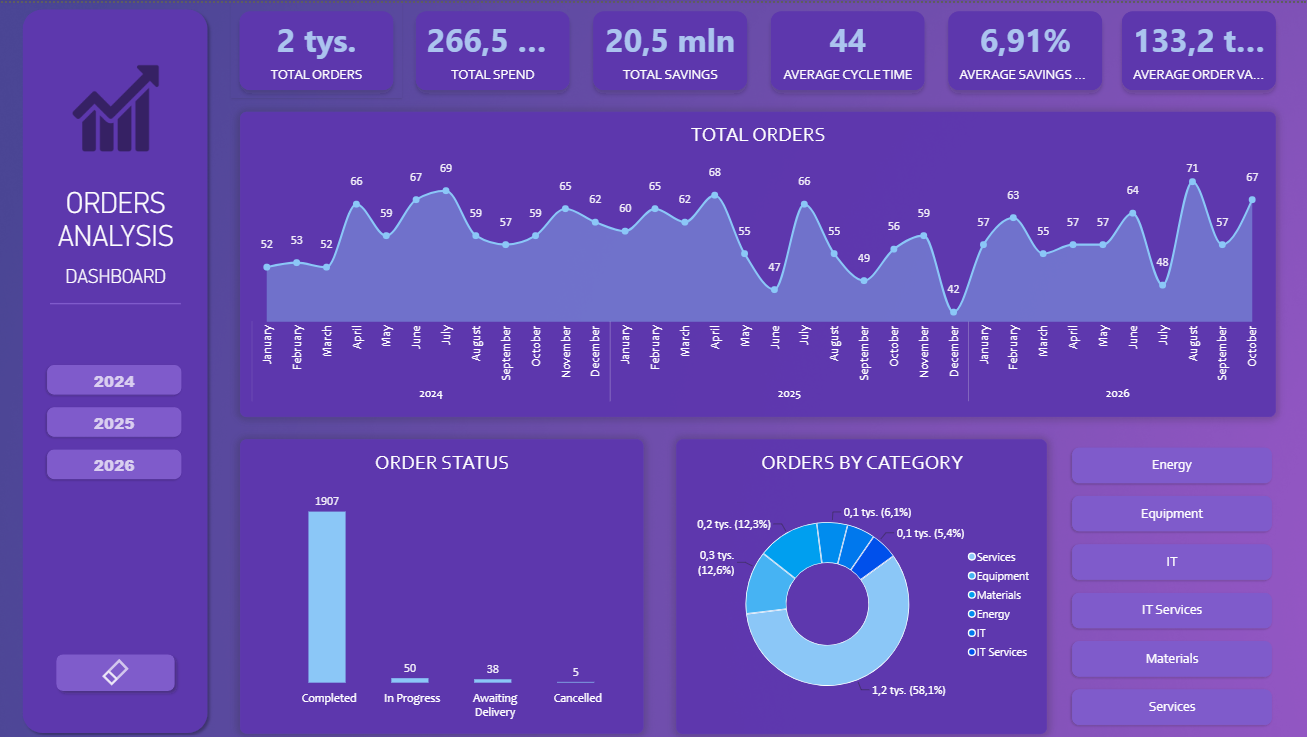

Layout of this report page (visuals, bound fields, positions):
{"tool":"powerbi","page":{"name":"Executive Overview","canvas":[1920,1080],"ordinal":0},"visuals":[{"type":"shape","box":[24,0,289.8,1080.4],"z":0},{"type":"cardVisual","fields":{"Data":["Buyers.Total orders"]},"box":[338.6,0,250,140],"z":1000},{"type":"cardVisual","fields":{"Data":["Buyers.Total spend"]},"box":[598.6,0,250,140],"z":2000},{"type":"cardVisual","fields":{"Data":["Buyers.Total savings"]},"box":[858.6,0,250,140],"z":3000},{"type":"cardVisual","fields":{"Data":["Buyers.Average order value"]},"box":[1634.6,0,250,140],"z":4000},{"type":"cardVisual","fields":{"Data":["Buyers.Average savings rate"]},"box":[1378.6,0,250,140],"z":5000},{"type":"cardVisual","fields":{"Data":["Buyers.Average cycle time"]},"box":[1118.6,0,250,140],"z":6000},{"type":"areaChart","title":"TOTAL ORDERS","fields":{"Category":["Calendar.Year","Calendar.Month Name"],"Y":["Buyers.Total orders"]},"box":[352,160,1520,448],"z":7000},{"type":"columnChart","title":"ORDER STATUS","fields":{"Category":["Orders.Order_Status"],"Y":["Buyers.Total orders"]},"box":[352,640,592,432],"z":8000},{"type":"donutChart","title":"ORDERS BY CATEGORY","fields":{"Category":["Categories.Category_Group"],"Y":["Buyers.Total orders"]},"box":[992,640,544,433],"z":9000},{"type":"advancedSlicerVisual","fields":{"Values":["Categories.Category_Group"]},"box":[1552,632,336,448],"z":10000},{"type":"textbox","box":[26,249.7,288,240],"z":11000},{"type":"image","box":[26,81.7,288,144],"z":12000},{"type":"advancedSlicerVisual","fields":{"Values":["Calendar.Year"]},"box":[48,512,240,208],"z":13000},{"type":"actionButton","title":"RESET FILTERS","box":[74,945.7,192,72],"z":13001},{"type":"shape","box":[74,297.7,192,288],"z":13002}]}

Visuals, with their boxes in screenshot pixels (x1, y1, x2, y2), scaled from the page's 1920x1080 canvas onto the 1307x737 screenshot:
shape: 16,0,214,736
cardVisual - Buyers.Total orders: 230,0,401,96
cardVisual - Buyers.Total spend: 407,0,578,96
cardVisual - Buyers.Total savings: 584,0,755,96
cardVisual - Buyers.Average order value: 1113,0,1283,96
cardVisual - Buyers.Average savings rate: 938,0,1109,96
cardVisual - Buyers.Average cycle time: 761,0,932,96
"TOTAL ORDERS" areaChart: 240,109,1274,415
"ORDER STATUS" columnChart: 240,437,643,732
"ORDERS BY CATEGORY" donutChart: 675,437,1046,732
advancedSlicerVisual - Categories.Category_Group: 1056,431,1285,736
textbox: 18,170,214,334
image: 18,56,214,154
advancedSlicerVisual - Calendar.Year: 33,349,196,491
"RESET FILTERS" actionButton: 50,645,181,694
shape: 50,203,181,400
